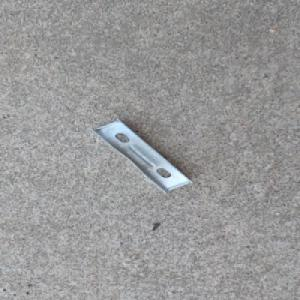ClampPart: (89, 118, 194, 193)
